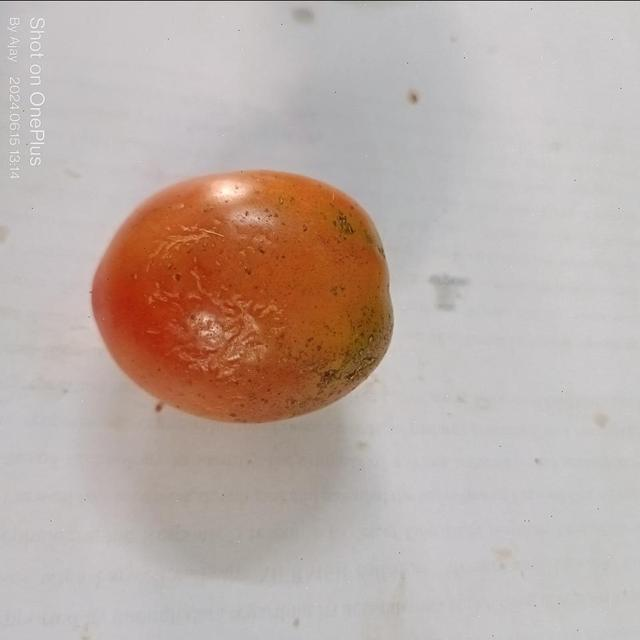Bacterial Spot Fruit: (24, 24, 236, 233)
